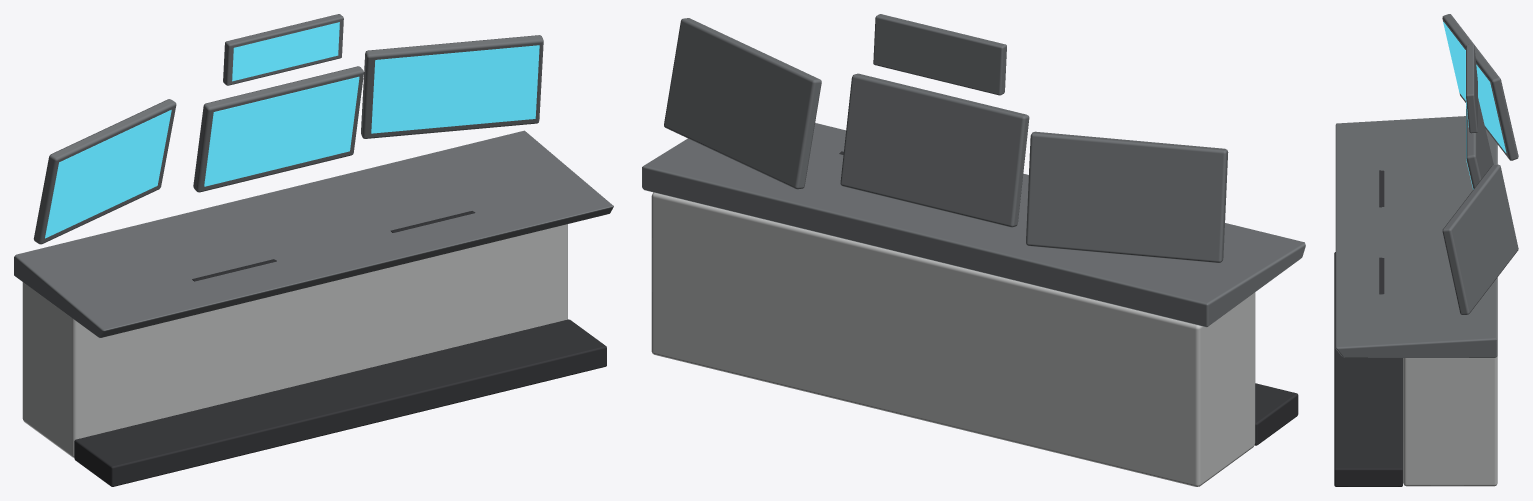
File: console_large.glb
The picture shows the model from 3 angles, left to right: view 1: azimuth 30°, elevation 25°; view 2: azimuth 150°, elevation 25°; view 3: azimuth 270°, elevation 25°; orthographic projection. The views are drawn at different scales.
Parts seen in each view (by area): view 1: console_large; view 2: console_large; view 3: console_large.
Part boxes in pixels (x1,y1,x2,y2): console_large: (14, 14, 613, 486); console_large: (642, 14, 1305, 486); console_large: (1334, 14, 1518, 486).
Bounding box in the file's own units: 3.1 × 1.99 × 1.07.
